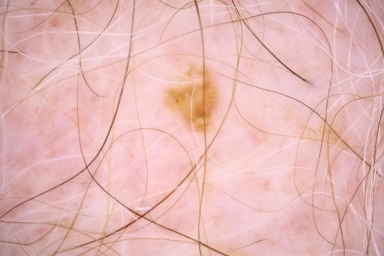nevus: (167, 67, 219, 133)
